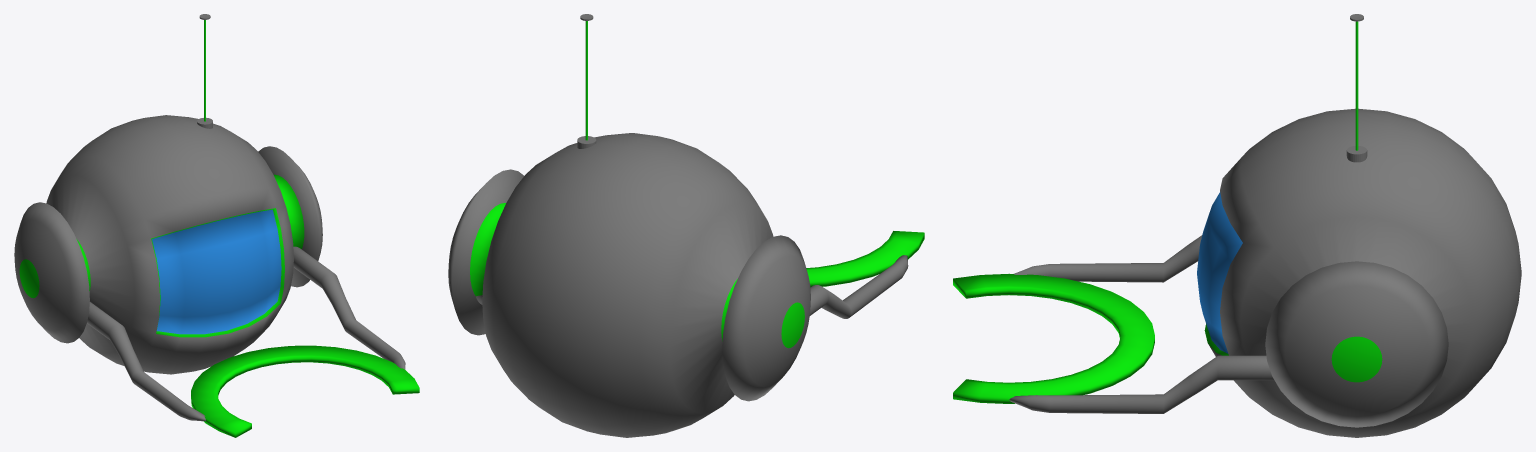
File: RoBot.fbx
3 renders of one model, left to right at view 1: azimuth 30°, elevation 25°; view 2: azimuth 150°, elevation 25°; view 3: azimuth 270°, elevation 25°, orthographic. The views are drawn at different scales.
Parts seen in each view (by area): view 1: Сфера; view 2: Сфера; view 3: Сфера.
Part boxes in pixels (left/top/right/bottom): Сфера: left=14, top=14, right=419, bottom=437; Сфера: left=448, top=14, right=924, bottom=437; Сфера: left=953, top=14, right=1521, bottom=437.
Bounding box in the file's own units: 251 × 287 × 345.
